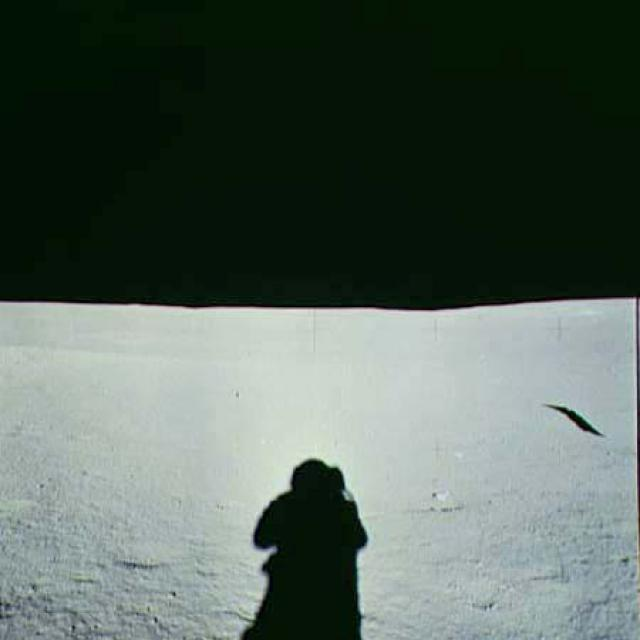crater: (100, 531, 212, 583)
